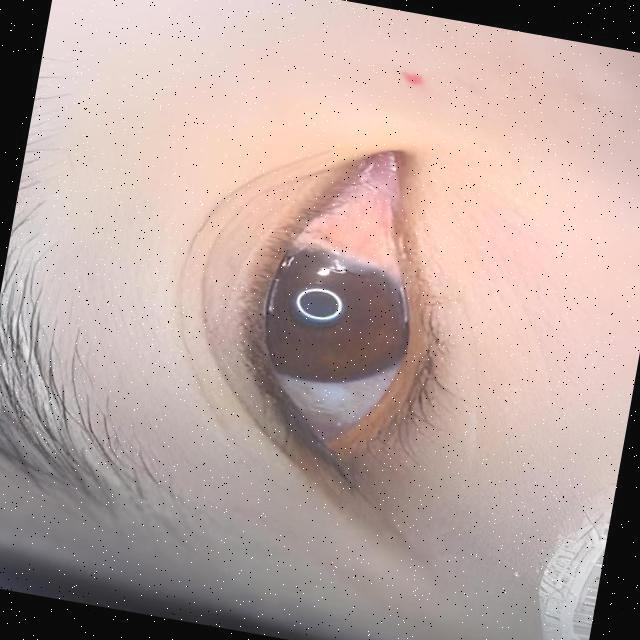Pterygium: (291, 156, 414, 284)
